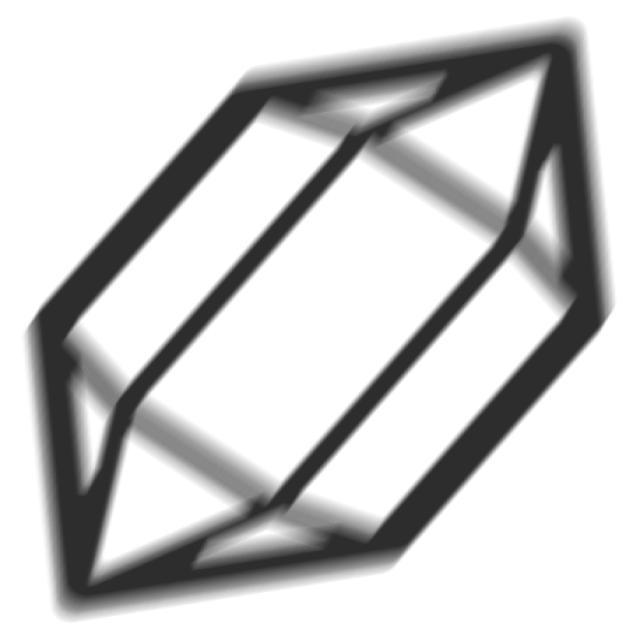crystal: (11, 15, 632, 629)
